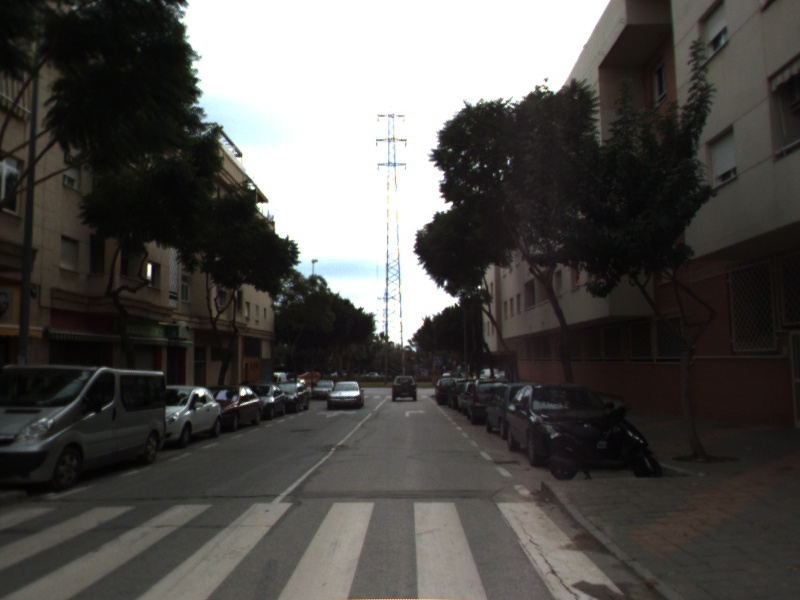RIGHT: (403, 407, 427, 418)
